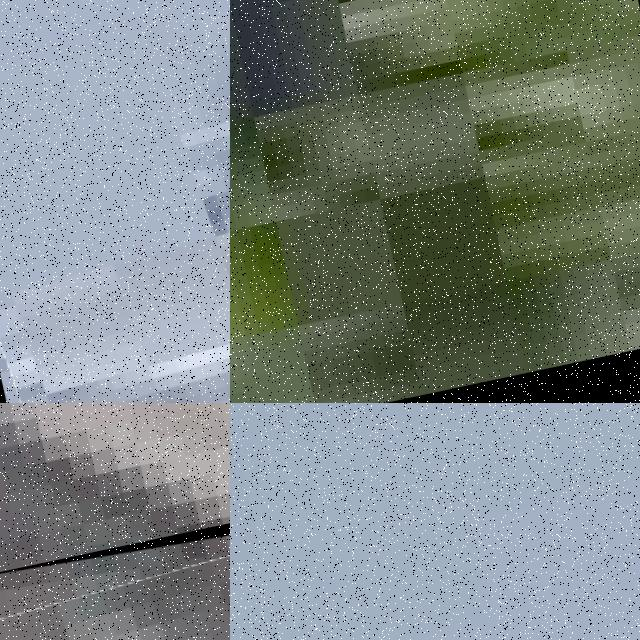0: (0, 0, 230, 403)
drone: (0, 447, 230, 640)
